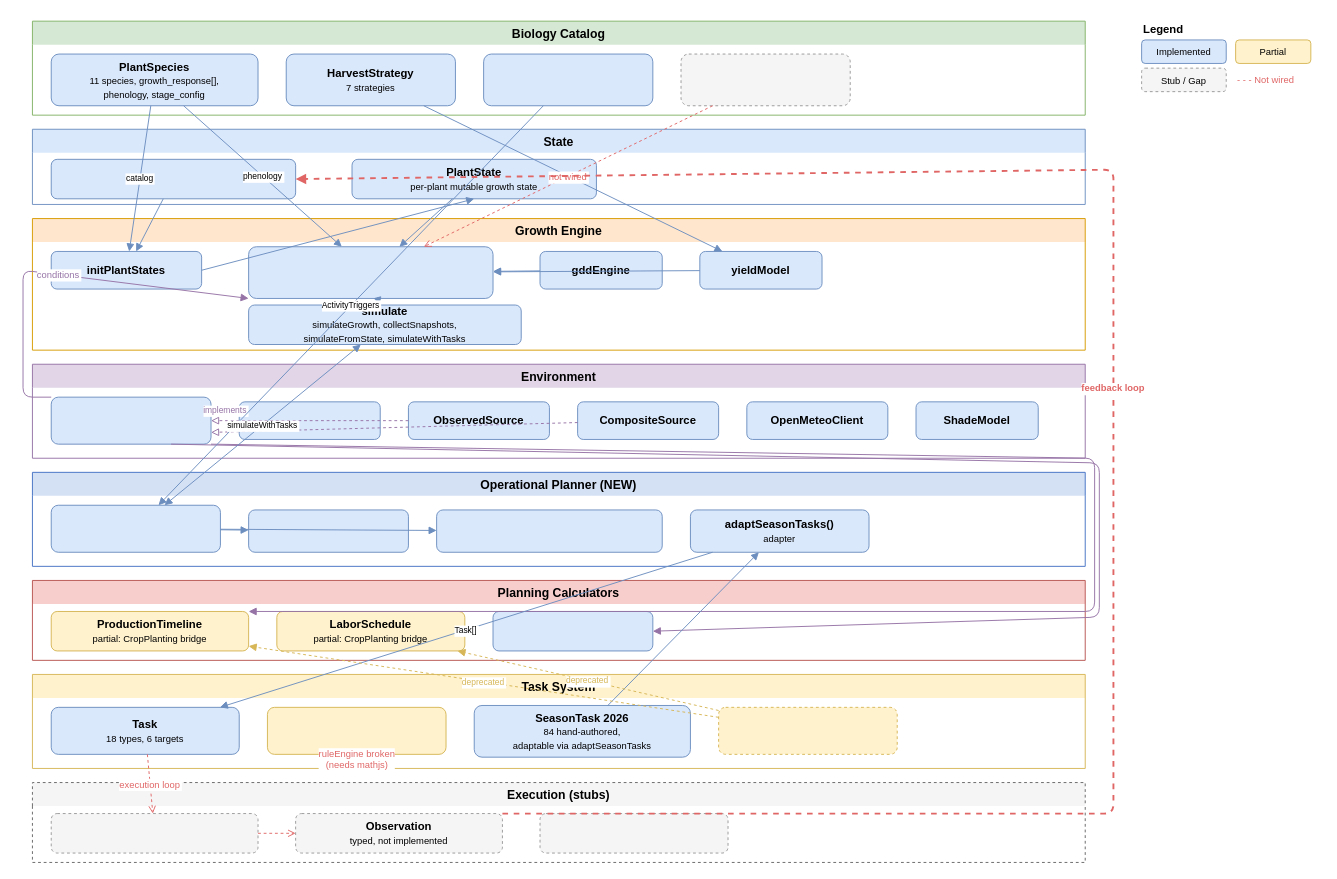
This 1337x879 diagram has some shape labels left out. Here are the shapes that lost their labels. From the top down, the centre of each, then its label:
At (568,79): "LifecycleSpec 7 lifecycle files".
At (765,79): "Pest / Companion typed, no data files".
At (173,178): "GardenState plants + subcells + infrastructure".
At (370,272): "tickDay / tickPlant 6-step: frost → survival → stress → GDD → biomass → harvest".
At (130,420): "ConditionsResolver interface".
At (309,420): "HistoricalSource".
At (135,528): "planDay() orchestrator".
At (328,530): "evaluateTrigger() leaf".
At (549,530): "generateTasksFromLifecycle() concept".
At (572,631): "WeatherBacktest".
At (356,730): "TaskRule 6 defaults, no evaluator".
At (807,730): "CropPlanting deprecated bridge (arch says delete)".
At (154,833): "Episode typed, not implemented".
At (633,833): "Robot typed, not implemented".
